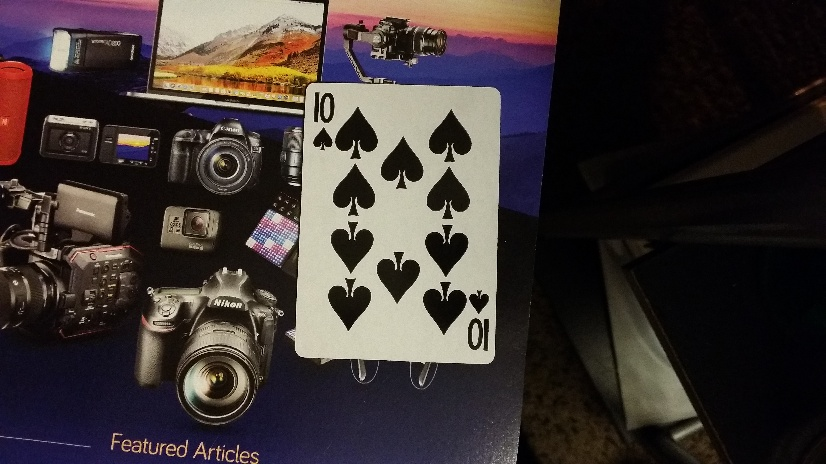S10: (467, 285, 493, 356), (310, 87, 337, 153)
